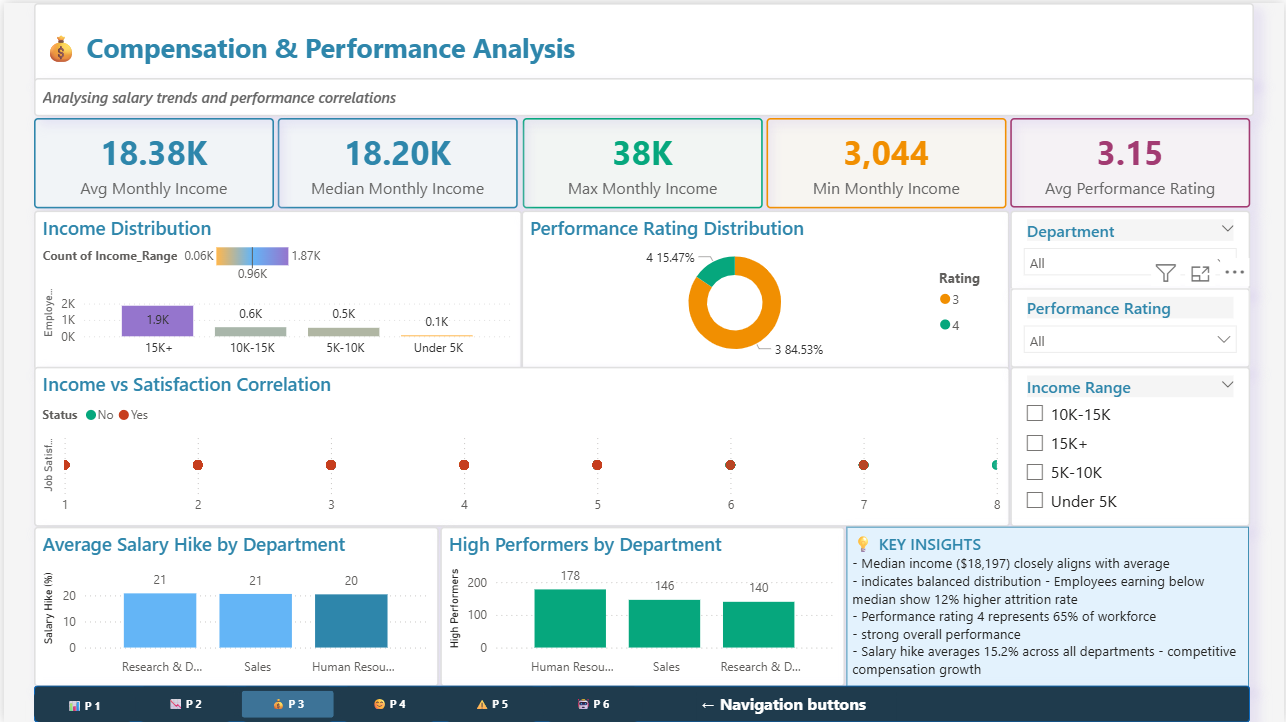

What the dashboard file says about the page in this screenshot:
{"tool":"powerbi","page":{"name":"Compensation & Performance","canvas":[1280,720],"ordinal":2},"visuals":[{"type":"textbox","box":[30,0,1220,80],"z":0},{"type":"textbox","box":[30.3,75,1219.6,38],"z":1000},{"type":"card","fields":{"Values":["03. Compensation Analysis.Max Monthly Income"]},"box":[518.1,115,240,90],"z":2000},{"type":"card","fields":{"Values":["03. Compensation Analysis.Median Monthly Income"]},"box":[274.1,115,240,90],"z":3000},{"type":"card","fields":{"Values":["03. Compensation Analysis.Avg Monthly Income"]},"box":[30,115,240,90],"z":4000},{"type":"card","fields":{"Values":["03. Compensation Analysis.Min Monthly Income"]},"box":[762.2,115,240,90],"z":5000},{"type":"card","fields":{"Values":["05. Performance & Satisfaction.Avg Performance Rating"]},"box":[1006.3,115,240,89.7],"z":6000},{"type":"clusteredColumnChart","title":"Income Distribution","fields":{"Category":["HR_Analytics_Enhanced.Income_Range"],"Y":["01. Basic KPIs.Total Employees"]},"box":[29.5,207.5,488,160],"z":7000},{"type":"donutChart","title":"Performance Rating Distribution","fields":{"Category":["HR_Analytics_Enhanced.PerformanceRating"],"Y":["01. Basic KPIs.Total Employees"]},"box":[518,207,488,160],"z":8000},{"type":"scatterChart","title":"Income vs Satisfaction Correlation","fields":{"Category":["HR_Analytics_Enhanced.MonthlyIncome"],"X":["Sum(HR_Analytics_Enhanced.JobSatisfaction)"],"Series":["HR_Analytics_Enhanced.Attrition"]},"box":[30,363.5,975.9,160],"z":9000},{"type":"clusteredColumnChart","title":"Average Salary Hike by Department","fields":{"Category":["HR_Analytics_Enhanced.Department"],"Y":["03. Compensation Analysis.Avg Salary Hike"]},"box":[30,523.5,405,160],"z":10000},{"type":"clusteredColumnChart","title":"High Performers by Department","fields":{"Category":["HR_Analytics_Enhanced.Department"],"Y":["05. Performance & Satisfaction.High Performers"]},"box":[436.7,524.1,405,160],"z":11000},{"type":"slicer","fields":{"Values":["HR_Analytics_Enhanced.Department"]},"box":[1006.3,207.3,240,80],"z":12000},{"type":"slicer","fields":{"Values":["HR_Analytics_Enhanced.PerformanceRating"]},"box":[1006.3,285,240,80],"z":13000},{"type":"slicer","fields":{"Values":["HR_Analytics_Enhanced.Income_Range"]},"box":[1005.9,363.4,240,160],"z":14000},{"type":"textbox","box":[842.3,524.1,402,160],"z":15000},{"type":"shape","box":[30,682.5,1216,37],"z":15001},{"type":"textbox","box":[692.5,685,200,33],"z":15002},{"type":"actionButton","box":[30,685,100,35],"z":15003},{"type":"actionButton","box":[131.8,684,100,35],"z":15004},{"type":"actionButton","box":[233.5,684,100,35],"z":15005},{"type":"actionButton","box":[335.2,684,100,35],"z":15006},{"type":"actionButton","box":[437,684,100,35],"z":15007},{"type":"actionButton","box":[538.8,683.8,100,35],"z":15008}]}

Visuals, with their boxes in screenshot pixels (x1, y1, x2, y2), scaled from the page's 1280x720 canvas onto the 1286x722 screenshot:
textbox: 30, 0, 1256, 80
textbox: 30, 75, 1256, 113
card - 03. Compensation Analysis.Max Monthly Income: 521, 115, 762, 206
card - 03. Compensation Analysis.Median Monthly Income: 275, 115, 517, 206
card - 03. Compensation Analysis.Avg Monthly Income: 30, 115, 271, 206
card - 03. Compensation Analysis.Min Monthly Income: 766, 115, 1007, 206
card - 05. Performance & Satisfaction.Avg Performance Rating: 1011, 115, 1252, 205
"Income Distribution" clusteredColumnChart: 30, 208, 520, 369
"Performance Rating Distribution" donutChart: 520, 208, 1011, 368
"Income vs Satisfaction Correlation" scatterChart: 30, 365, 1011, 525
"Average Salary Hike by Department" clusteredColumnChart: 30, 525, 437, 685
"High Performers by Department" clusteredColumnChart: 439, 526, 846, 686
slicer - HR_Analytics_Enhanced.Department: 1011, 208, 1252, 288
slicer - HR_Analytics_Enhanced.PerformanceRating: 1011, 286, 1252, 366
slicer - HR_Analytics_Enhanced.Income_Range: 1011, 364, 1252, 525
textbox: 846, 526, 1250, 686
shape: 30, 684, 1252, 721
textbox: 696, 687, 897, 720
actionButton: 30, 687, 131, 721
actionButton: 132, 686, 233, 721
actionButton: 235, 686, 335, 721
actionButton: 337, 686, 437, 721
actionButton: 439, 686, 540, 721
actionButton: 541, 686, 642, 721
